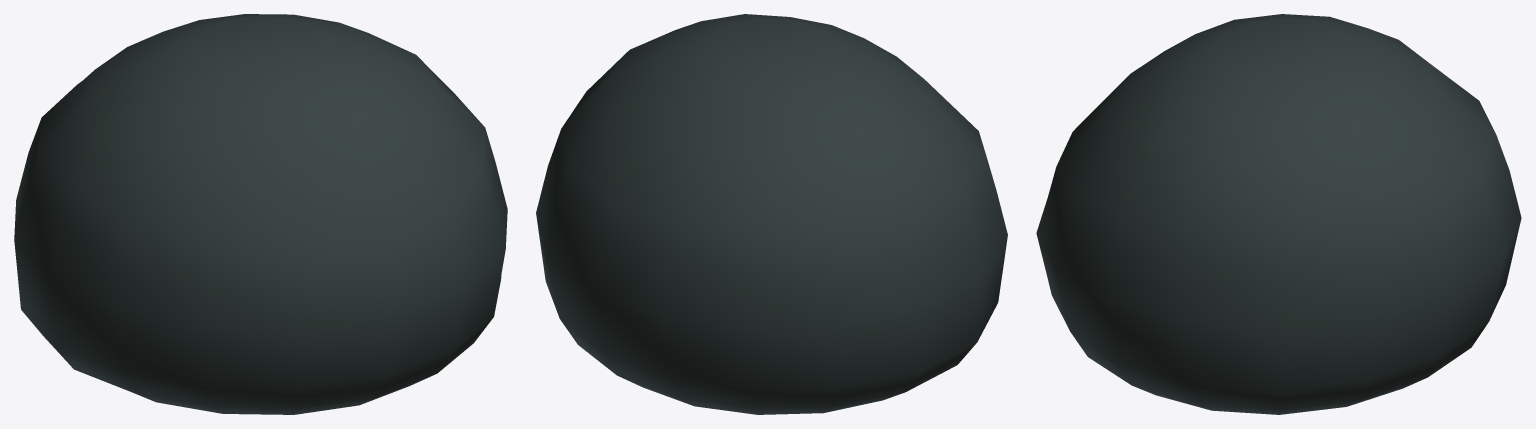
Rendered from Stone06.fbx.
3 views of the same model, side by side, from view 1: azimuth 30°, elevation 25°; view 2: azimuth 150°, elevation 25°; view 3: azimuth 270°, elevation 25° (orthographic).
Visible parts, largest first — view 1: Stone06; view 2: Stone06; view 3: Stone06.
Boxes of the visible parts, box(x1,y1,x2,y2) form: Stone06: box(14, 14, 507, 414); Stone06: box(536, 14, 1007, 414); Stone06: box(1036, 14, 1521, 414).
Bounding box in the file's own units: 65.37 × 45.15 × 65.84.
